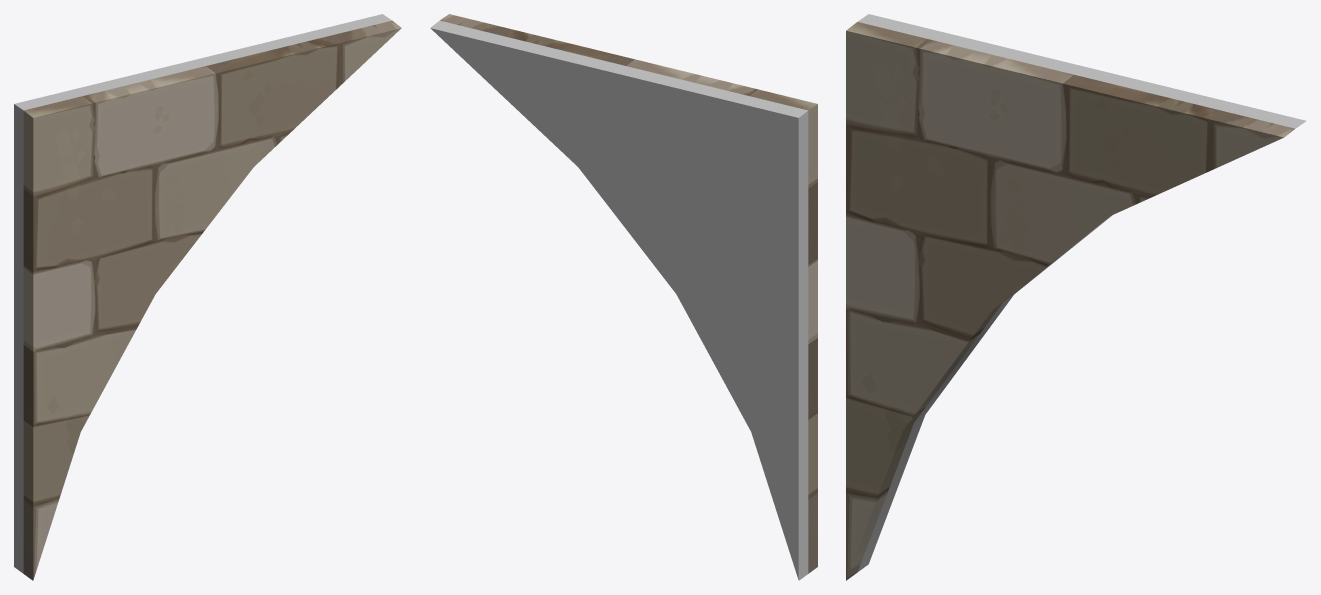
The model's file is SM_Bld_Wall_End_Convex_Inverted_01.fbx.
3 renders of one model, left to right at view 1: azimuth 30°, elevation 25°; view 2: azimuth 150°, elevation 25°; view 3: azimuth 330°, elevation 25°, orthographic. The views are drawn at different scales.
Parts seen in each view (by area): view 1: SM_Bld_Wall_End_Convex_Inverted_01; view 2: SM_Bld_Wall_End_Convex_Inverted_01; view 3: SM_Bld_Wall_End_Convex_Inverted_01.
Boxes of the visible parts, x1,y1,x2,y2 form: SM_Bld_Wall_End_Convex_Inverted_01: (14,14,401,580); SM_Bld_Wall_End_Convex_Inverted_01: (430,14,817,580); SM_Bld_Wall_End_Convex_Inverted_01: (846,14,1306,580).
Bounding box in the file's own units: 250 × 300 × 22.5.
